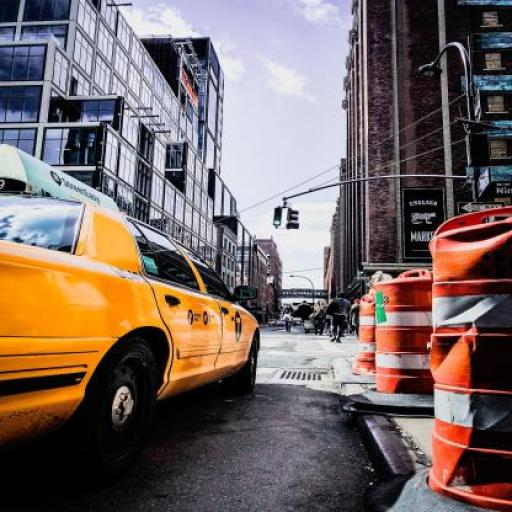street light: (417, 46, 482, 388), (289, 276, 314, 334)
